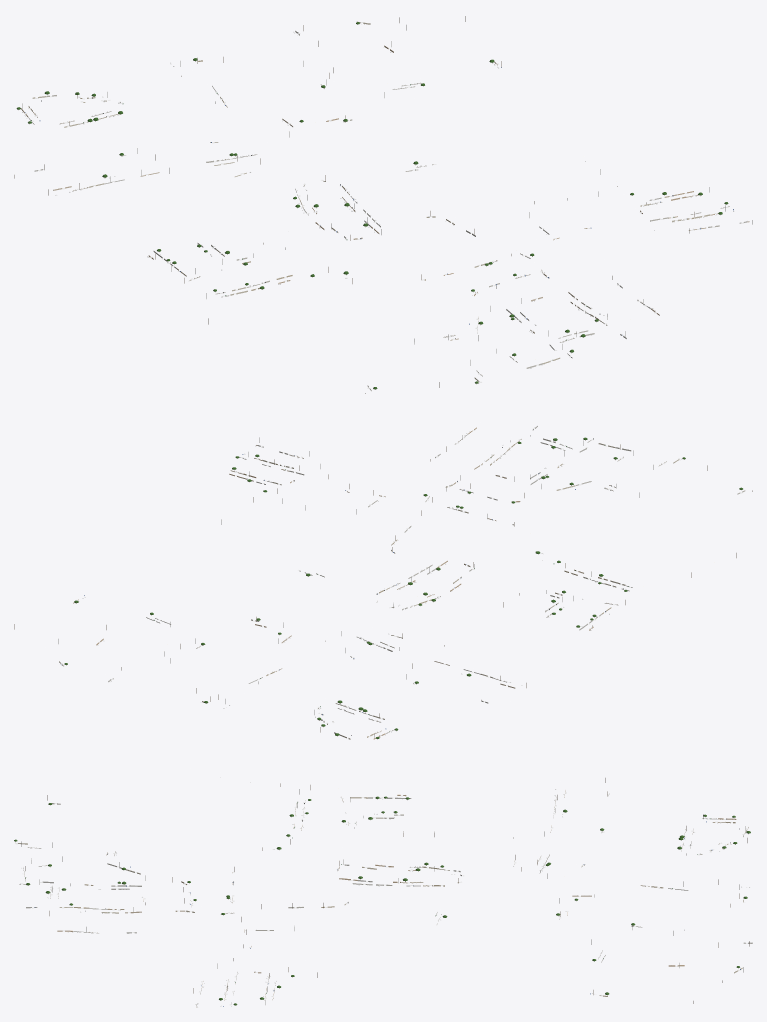
Rendered from nd_stm_m8_m5.glb.
The picture shows the model from 3 angles, top to bottom: view 1: azimuth 30°, elevation 25°; view 2: azimuth 150°, elevation 25°; view 3: azimuth 270°, elevation 25°; orthographic projection. The views are drawn at different scales.
Parts seen in each view (by area): view 1: nd_stm_m8_m5_lod0; view 2: nd_stm_m8_m5_lod0; view 3: nd_stm_m8_m5_lod0.
Part boxes in pixels (bbox=[...]): nd_stm_m8_m5_lod0: bbox=[14, 16, 752, 393]; nd_stm_m8_m5_lod0: bbox=[14, 426, 752, 739]; nd_stm_m8_m5_lod0: bbox=[14, 778, 752, 1007].
Size of what is drawn, in the model's own units: 745 by 19.86 by 998.
